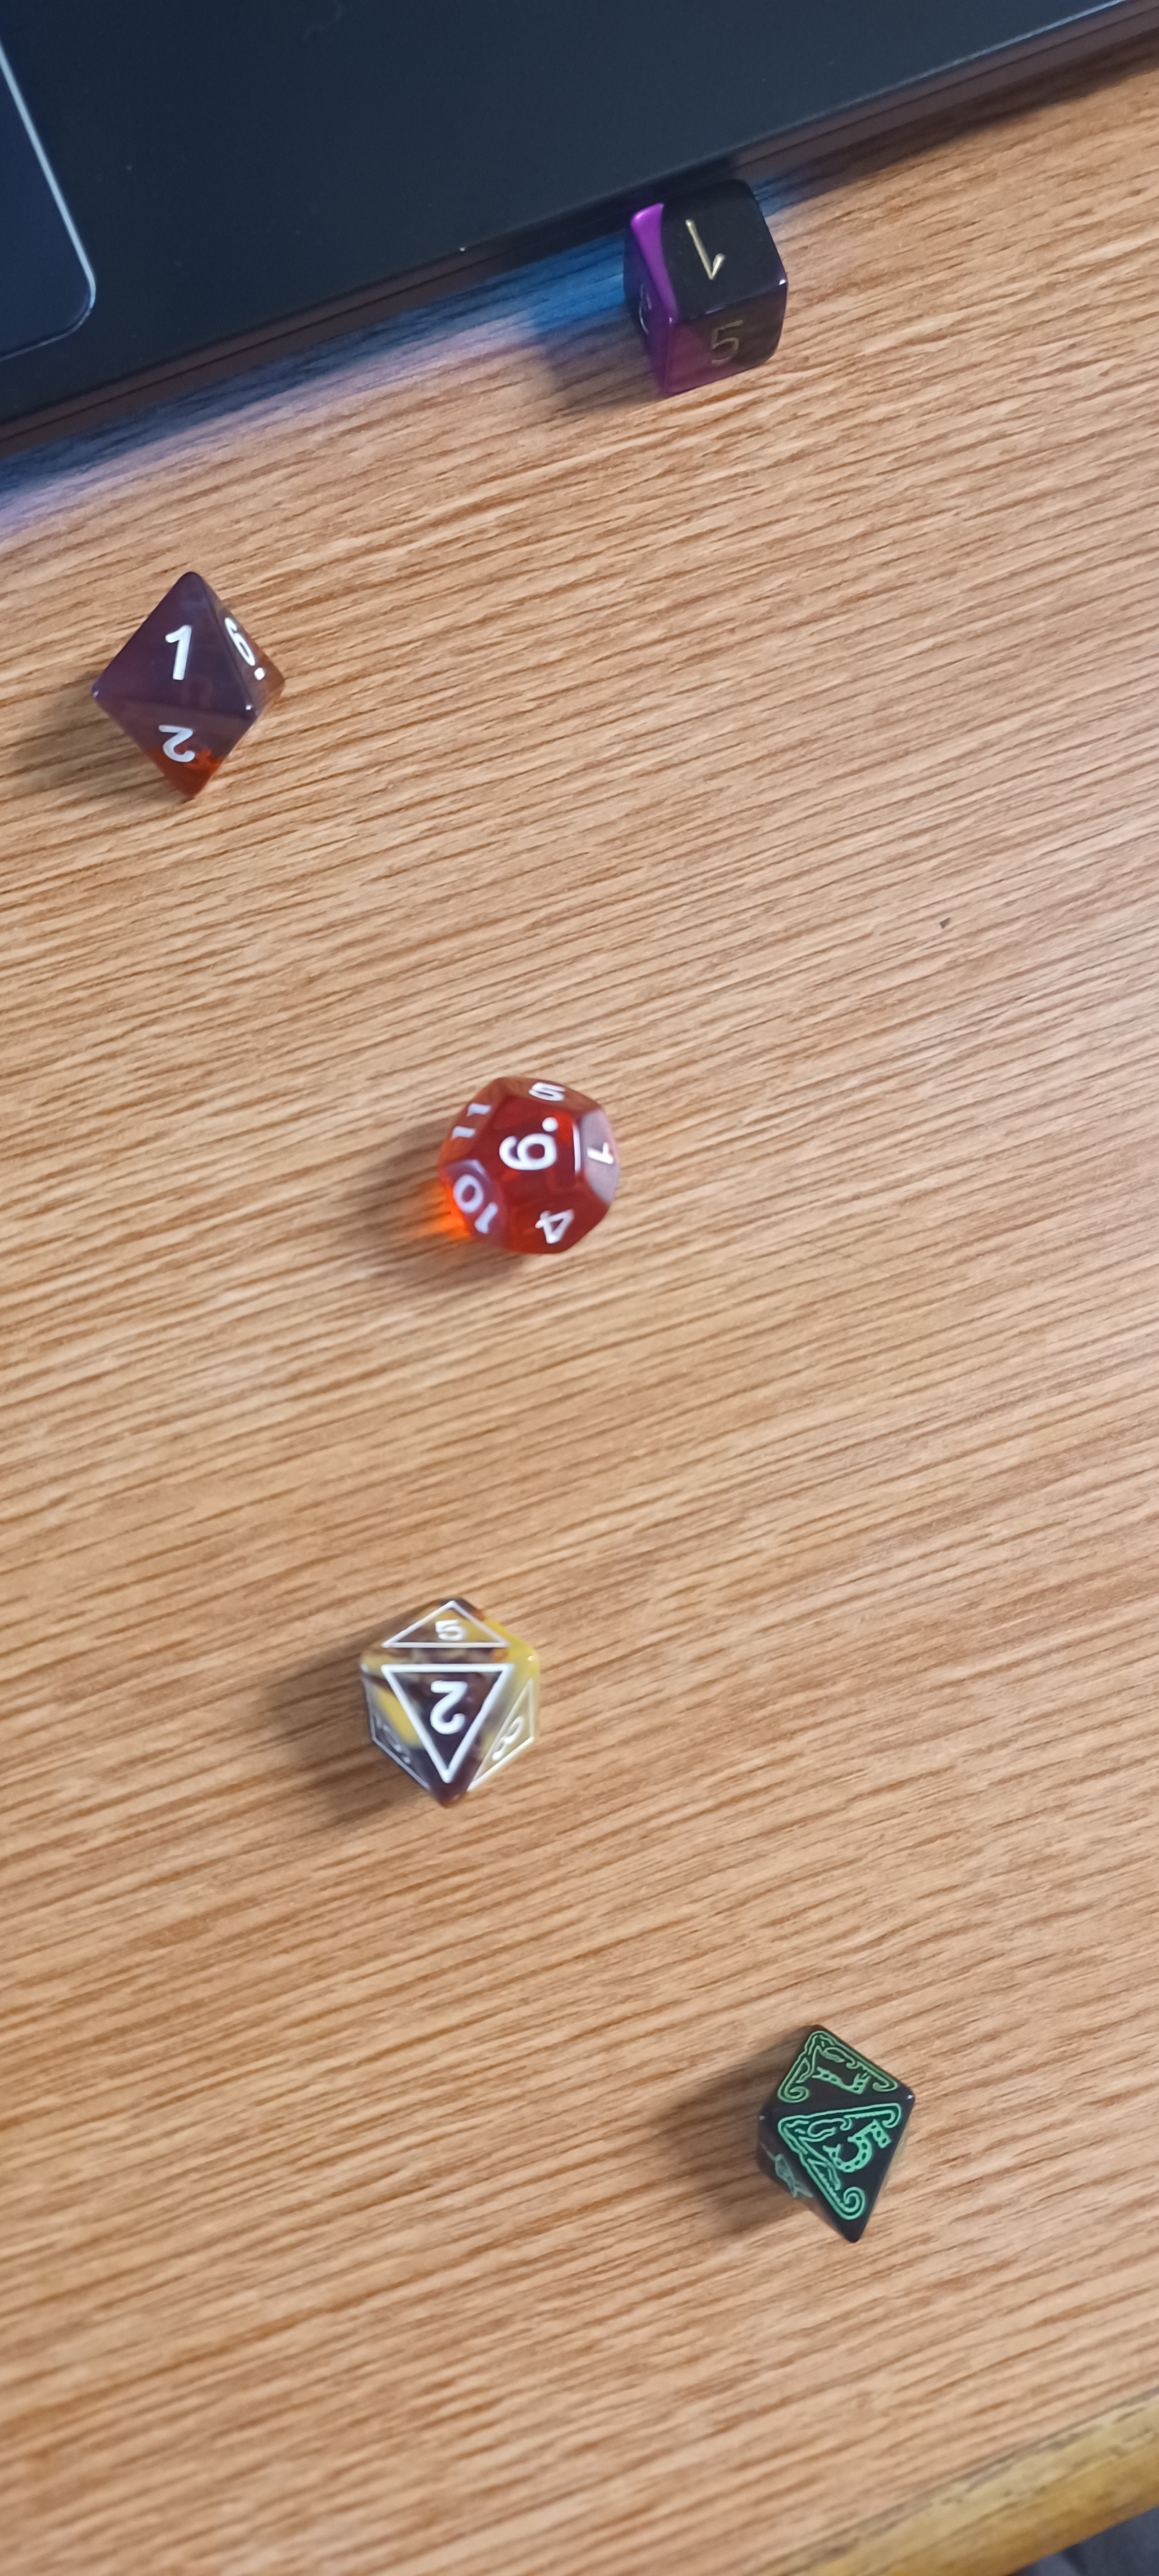five: (688, 1988, 987, 2279)
one: (558, 125, 844, 411), (46, 542, 325, 805)
six: (412, 1053, 658, 1280)
two: (340, 1556, 570, 1830)
